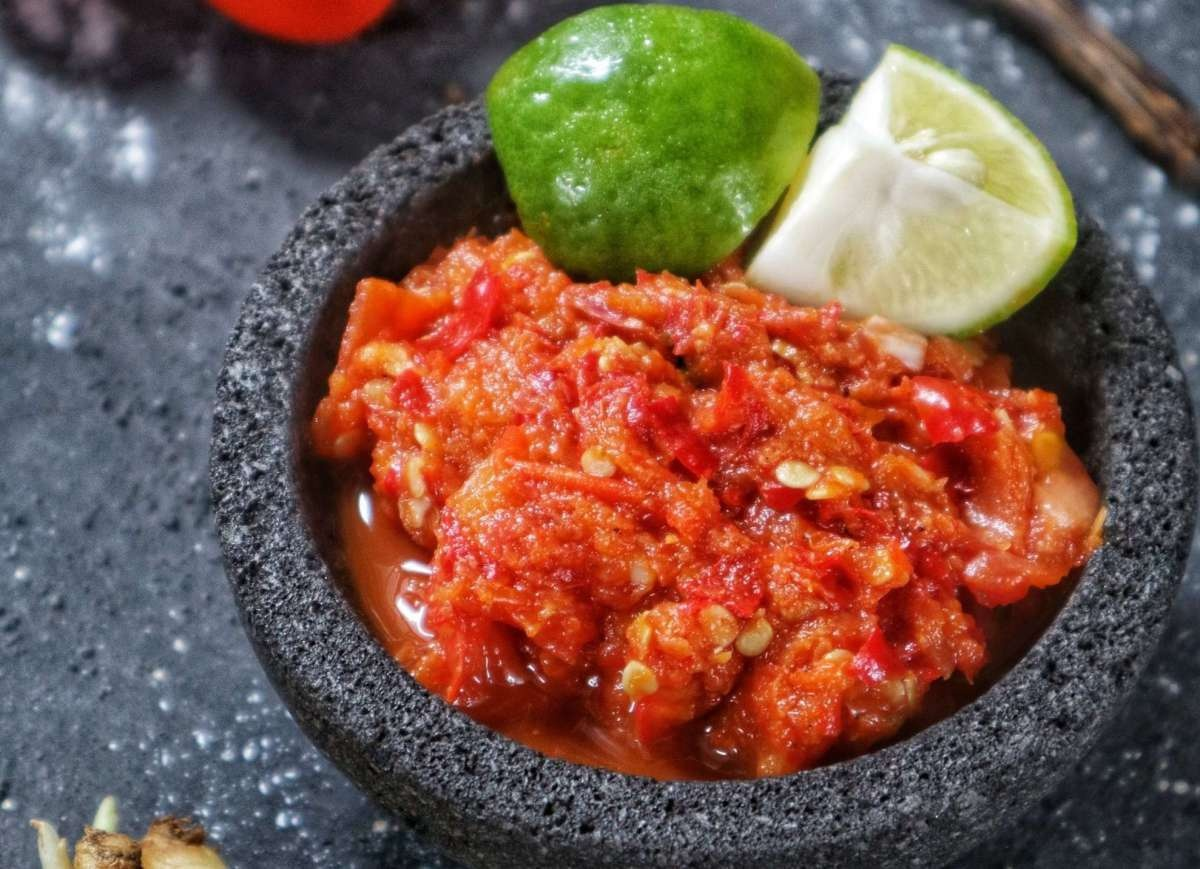sambal: (313, 227, 1093, 773)
